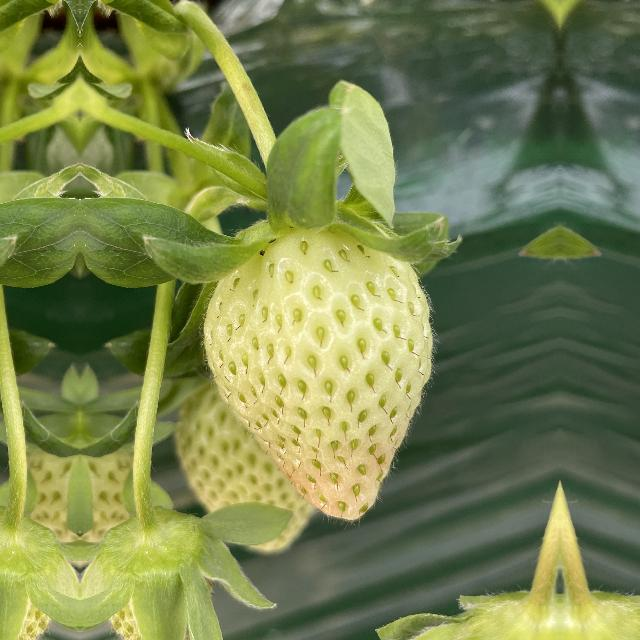Health_25: (198, 225, 444, 522)
